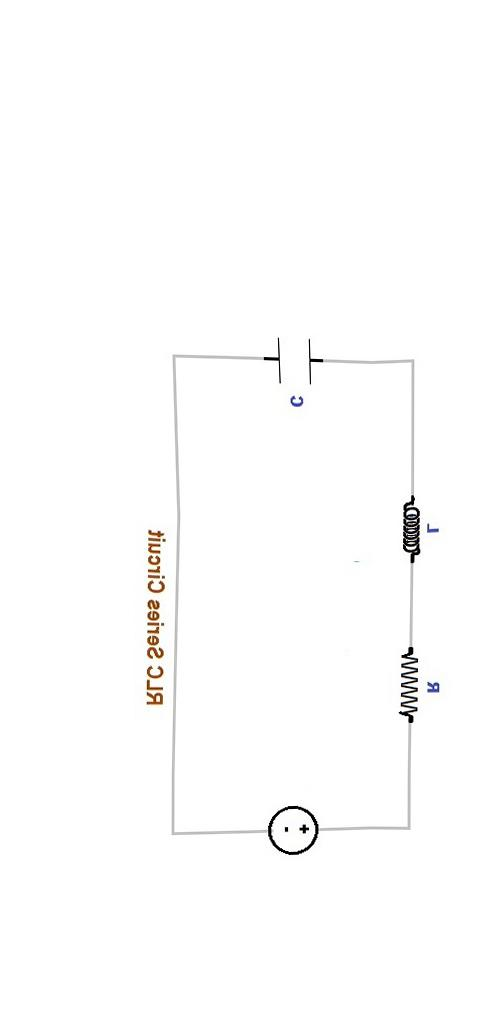Battery: (223, 767, 360, 893)
